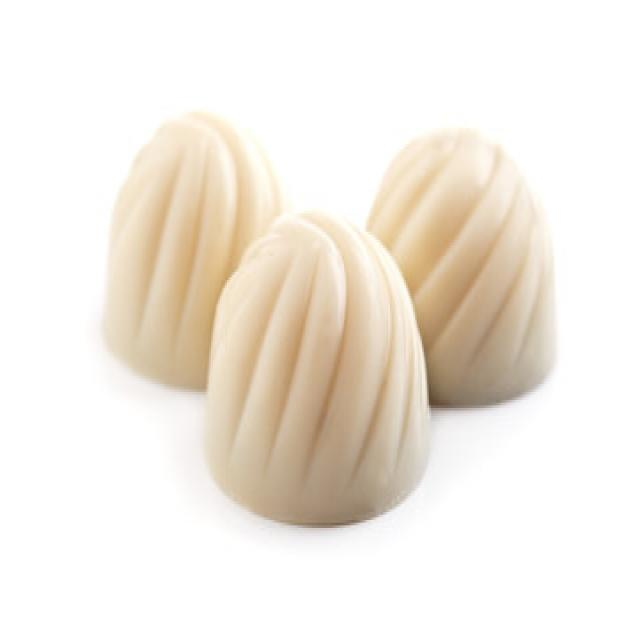Chocolate: (94, 110, 569, 530), (195, 207, 435, 529)
